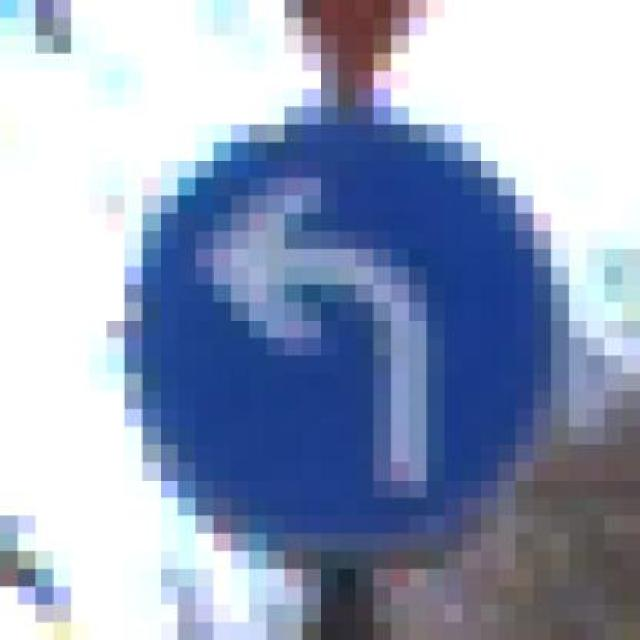Turn left ahead: (70, 89, 604, 569)
